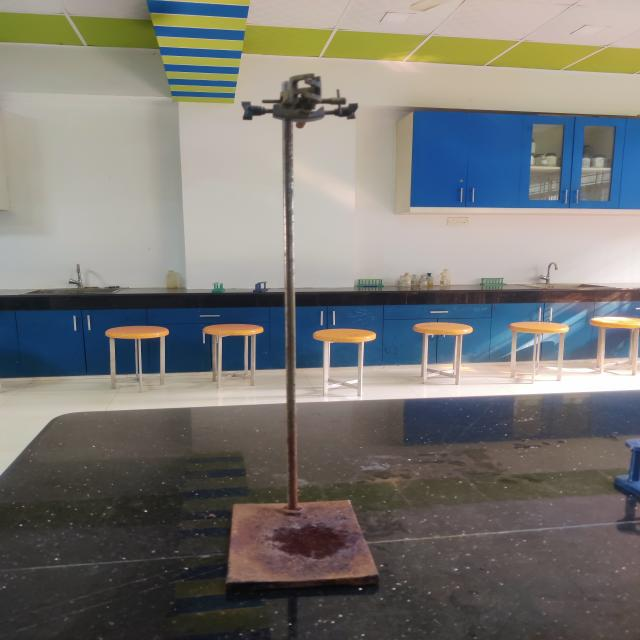Burette_Stands: (205, 63, 408, 620)
